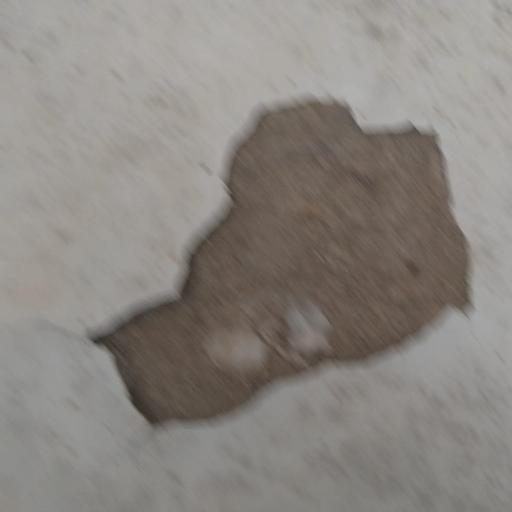peeling: (88, 68, 491, 439)
